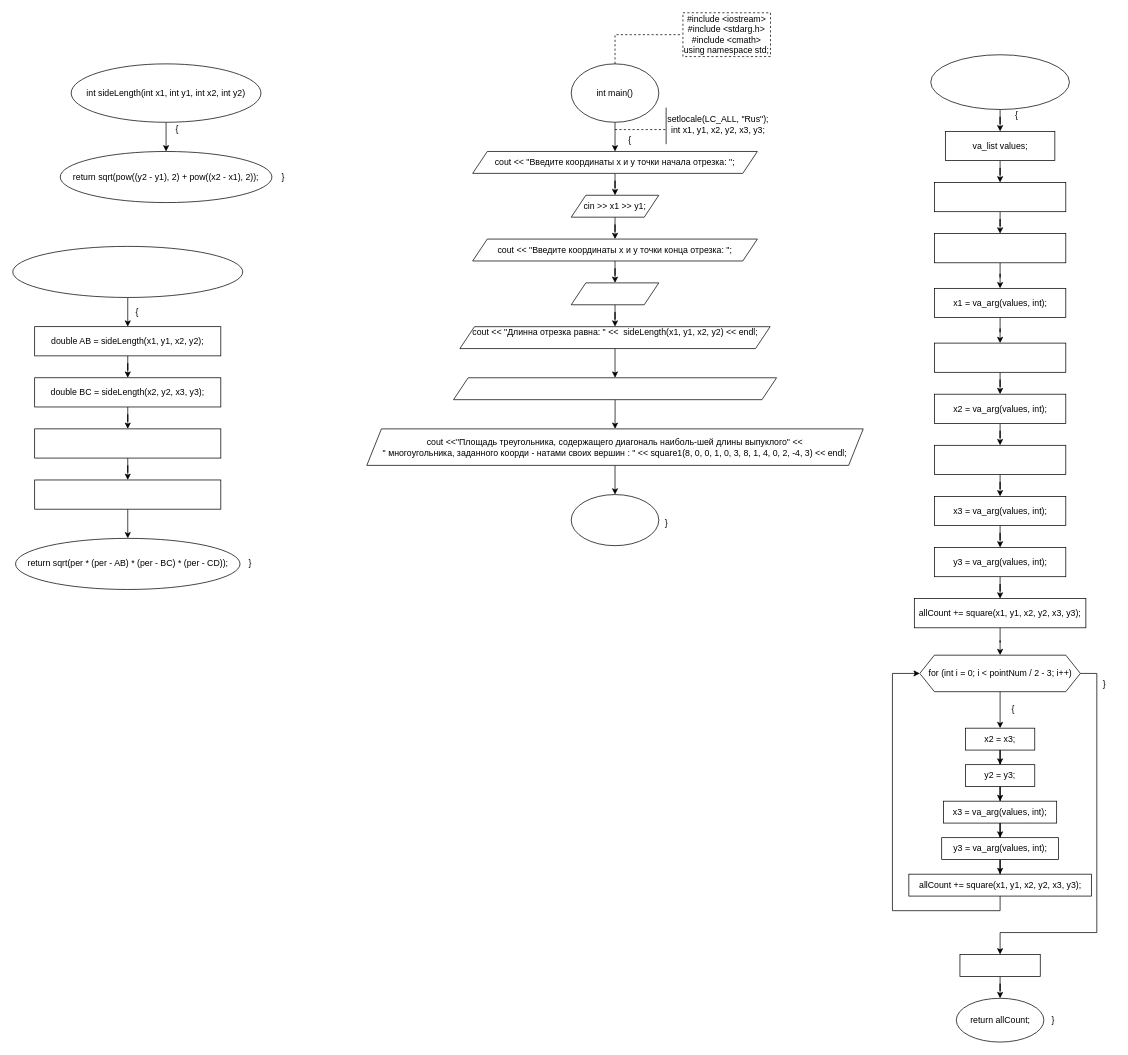
The diagram is 1128 pixels wide and 1055 high, and some of its shapes have lost their labels. Each missing label, with the centre of its shape:
cin >> x2 >> y2;: point 614,293
cout << "Площадь треугольника равна: " << square(0, 0, 7, 1, 1, 7) << endl;: point 615,388
double allCount = 0;: point 1000,248
double CD = sideLength(x3, y3, x1, y1);: point 127,443
double per = (AB + BC + CD) / 2;: point 127,494
double square1(int pointNum, ...): point 999,82
int square(int x1, int y1, int x2, int y2, int x3, int y3): point 127,271
return 0;: point 614,520
va_end(values);: point 999,965
va_start(values, pointNum);: point 1000,197
y1 = va_arg(values, int);: point 1000,357
y2 = va_arg(values, int);: point 1000,459
